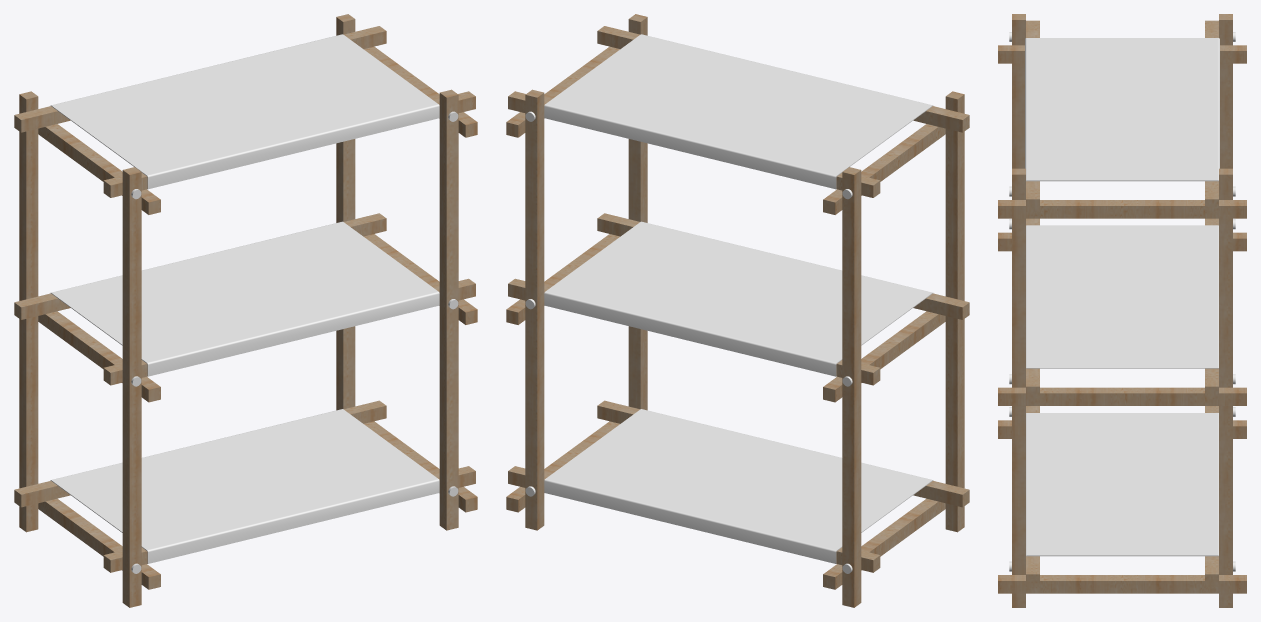
Rendered from woody_shelf.gltf.
The picture shows the model from 3 angles, left to right: view 1: azimuth 30°, elevation 25°; view 2: azimuth 150°, elevation 25°; view 3: azimuth 270°, elevation 25°; orthographic projection.
Parts seen in each view (by area): view 1: Mesh; view 2: Mesh; view 3: Mesh.
Part boxes in pixels (box(x1,y1,x2,y2)): Mesh: box(14, 14, 477, 607); Mesh: box(506, 14, 969, 607); Mesh: box(998, 14, 1246, 607).
Size of the model in its own units: 0.755 by 0.855 by 0.445.
Materials: 1 (1 with a texture image).
